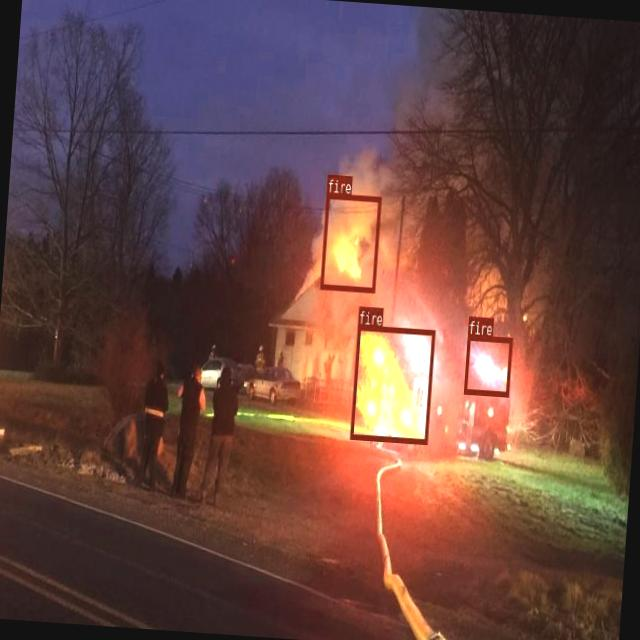fire: (348, 324, 434, 444), (319, 192, 381, 292), (463, 334, 512, 396)
